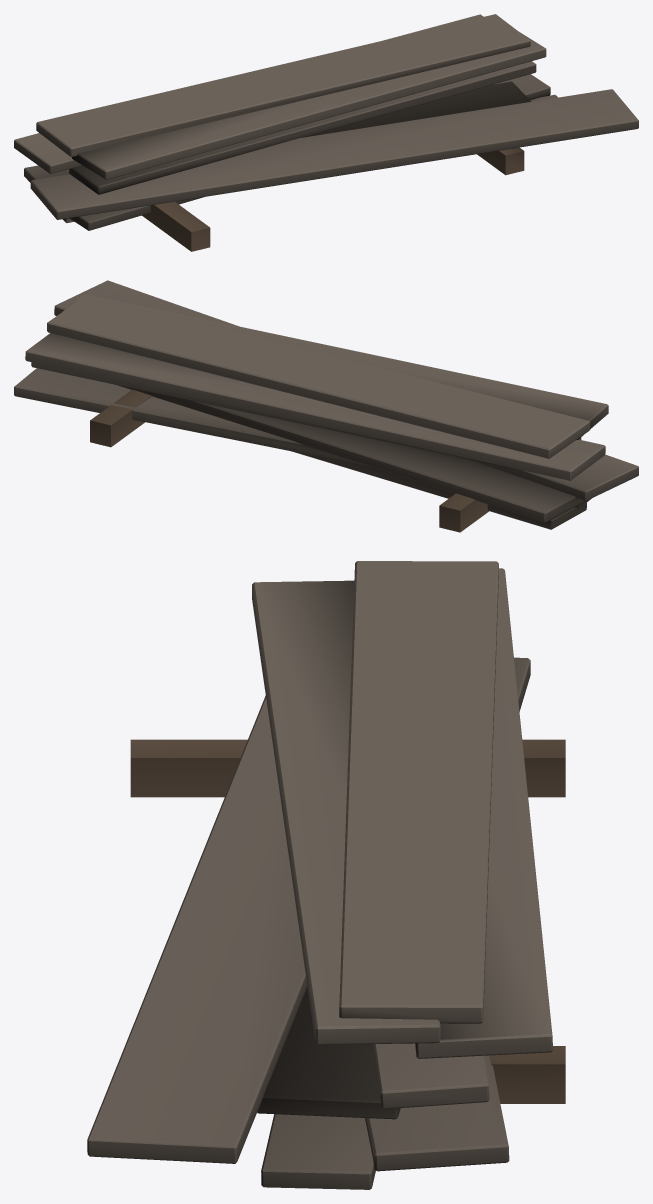
The model's file is prop.planks.mo.glb.
3 views of the same model, one above another, from view 1: azimuth 30°, elevation 25°; view 2: azimuth 150°, elevation 25°; view 3: azimuth 270°, elevation 25° (orthographic). The views are drawn at different scales.
Parts seen in each view (by area): view 1: LOD0; view 2: LOD0; view 3: LOD0.
Part boxes in pixels (x1,y1,x2,y2): LOD0: [14, 14, 638, 251]; LOD0: [14, 280, 638, 532]; LOD0: [87, 561, 565, 1189].
Size of what is drawn, in the model's own units: 1.72 by 0.2379 by 0.66.
